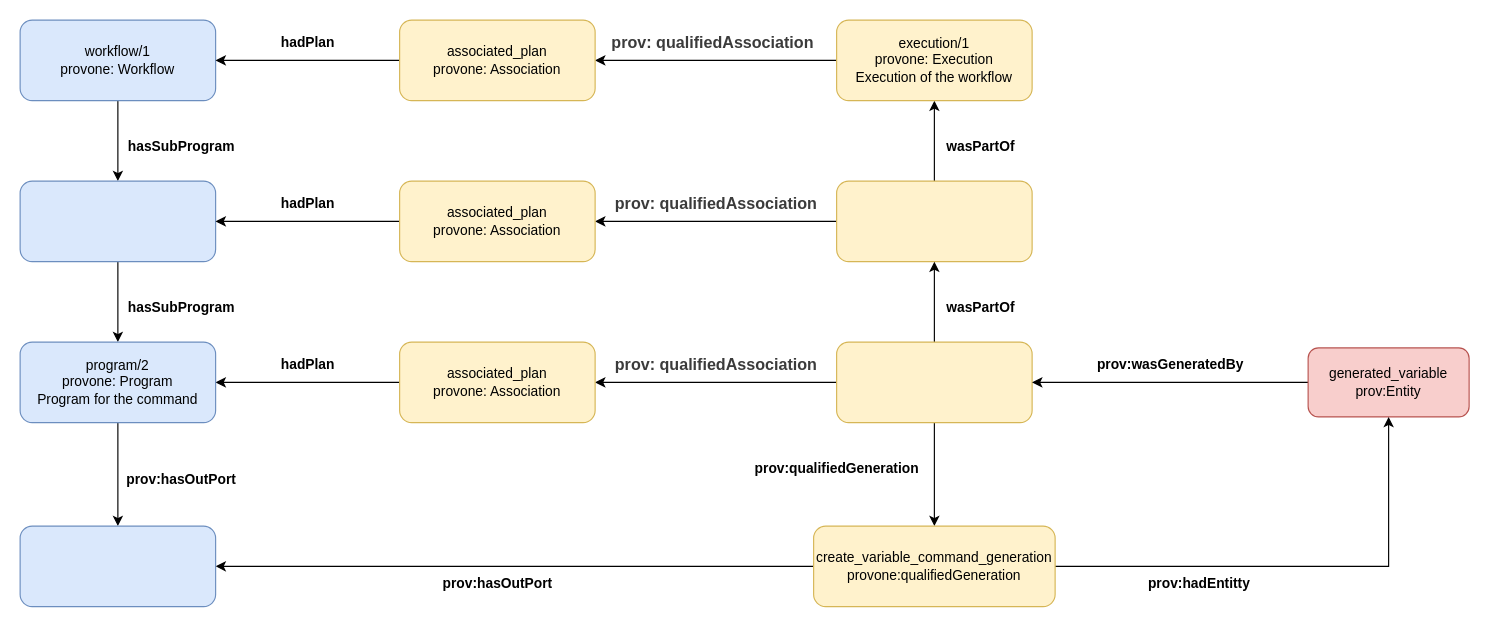
Image size: 1489x627. Some labels were removed from this diagram. Here are the shapes that lost their labels. From the top down, the centre of each, then its label:
At point 117,221: "program/1 provone: Program Program for the script".
At point 933,221: "execution/2 provone: Execution Execution of the script".
At point 933,382: "execution/3 provone: Execution Execution of the command".
At point 117,566: "port/1 provone: Port Port for the output".
